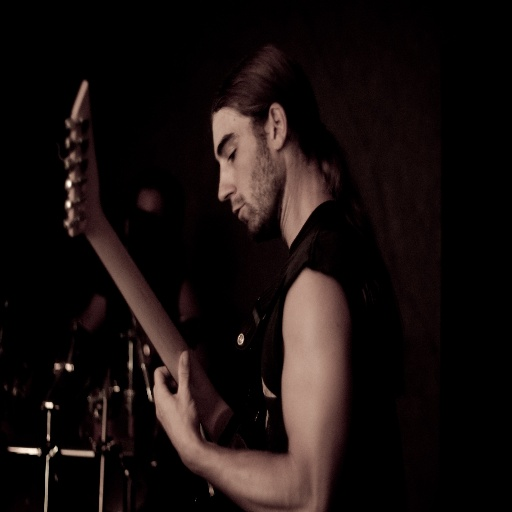hand: (145, 353, 211, 453)
